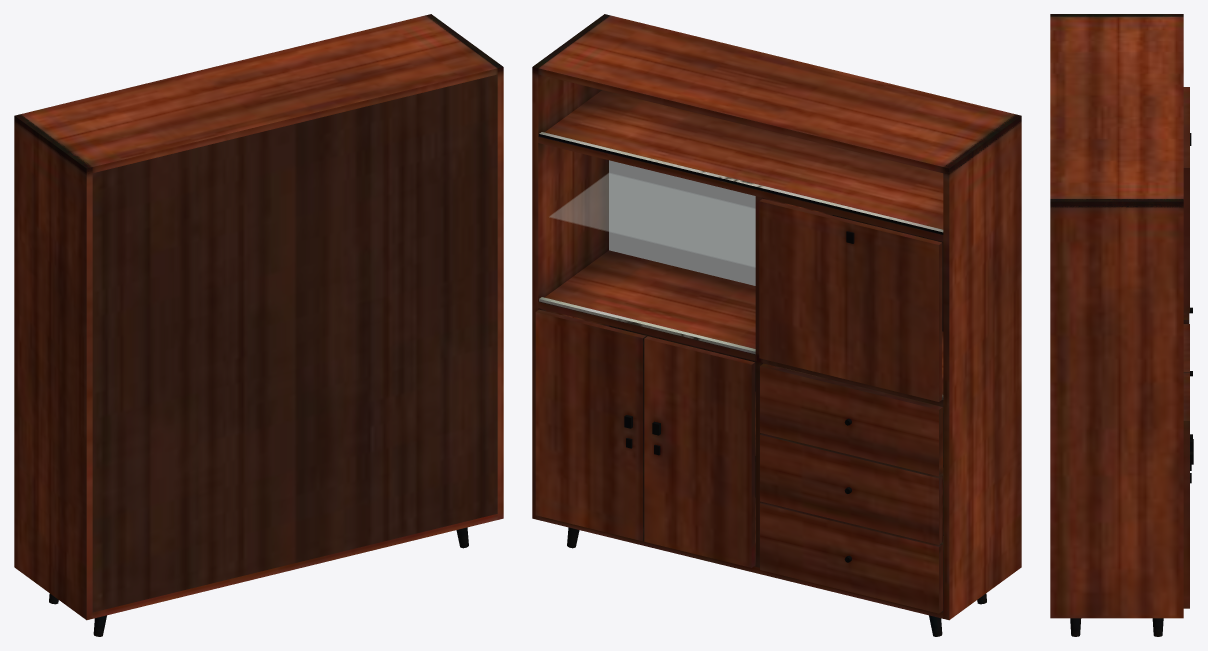
Rendered from sideboard_bar_lod1_web.glb.
The picture shows the model from 3 angles, left to right: view 1: azimuth 30°, elevation 25°; view 2: azimuth 150°, elevation 25°; view 3: azimuth 270°, elevation 25°; orthographic projection. The views are drawn at different scales.
Parts seen in each view (by area): view 1: SideboardBar_Body; view 2: SideboardBar_Body, Door_Bar_Mesh, Door_R_Mesh, Door_L_Mesh, Mirror_Back, Drawer_1_Mesh, Drawer_2_Mesh, Drawer_3_Mesh, Glass_Shelf; view 3: SideboardBar_Body, Door_L_Mesh, Door_Bar_Mesh, Door_R_Mesh.
Part boxes in pixels (box(x1,y1,x2,y2)): SideboardBar_Body: box(14, 14, 503, 636); SideboardBar_Body: box(532, 14, 1021, 636); Door_Bar_Mesh: box(759, 198, 942, 401); Door_R_Mesh: box(644, 336, 755, 567); Door_L_Mesh: box(535, 309, 646, 541); Mirror_Back: box(609, 160, 755, 285); Drawer_1_Mesh: box(760, 363, 943, 476); Drawer_2_Mesh: box(760, 433, 943, 544); Drawer_3_Mesh: box(760, 502, 943, 613); Glass_Shelf: box(550, 173, 755, 266); SideboardBar_Body: box(1050, 14, 1183, 636); Door_L_Mesh: box(1183, 372, 1193, 608); Door_Bar_Mesh: box(1183, 87, 1191, 312); Door_R_Mesh: box(1183, 324, 1193, 470).
Bounding box in the file's own units: 1.4 × 1.55 × 0.452.
Materials: 3 (1 with a texture image).
